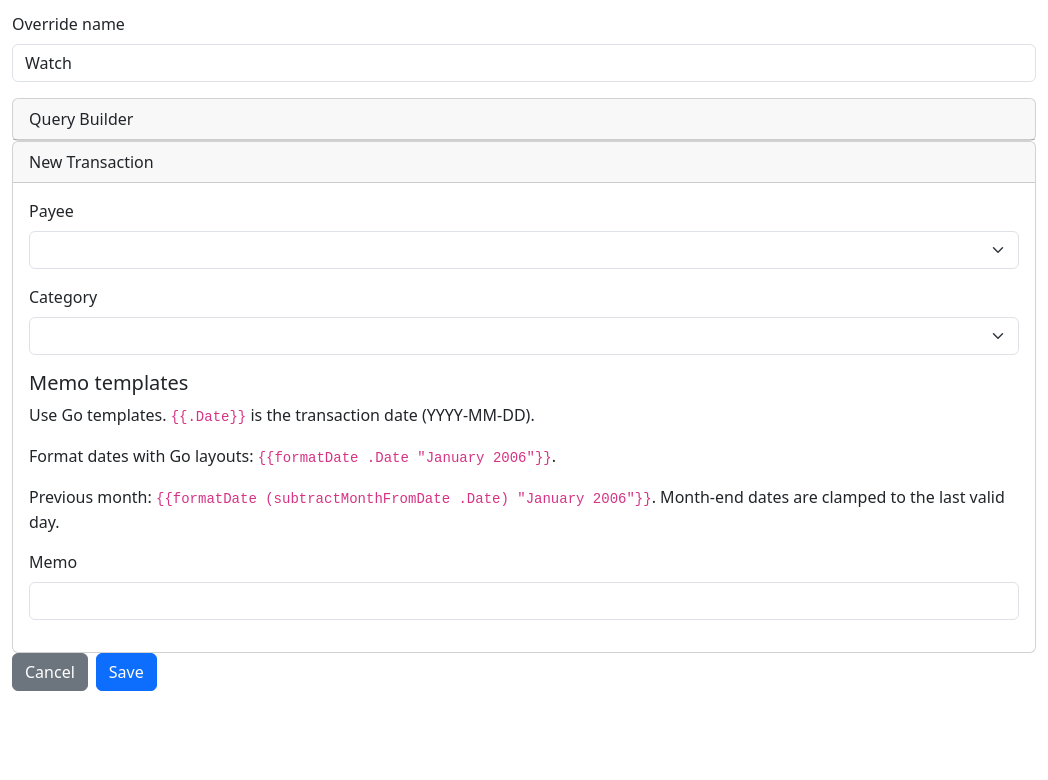
Test: blocks missing required payee
Click the button "Save" at [126, 672], box [96,653,157,691]
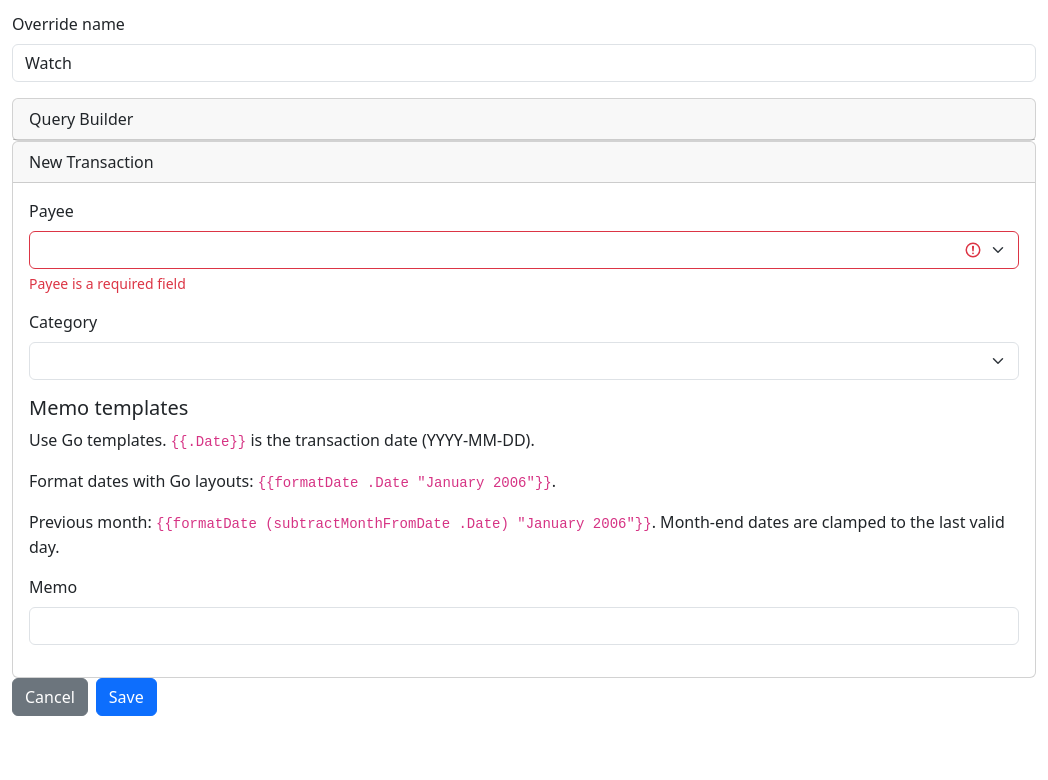
Expected: the text "Payee is a required field" is shown, [29,274,186,293]
